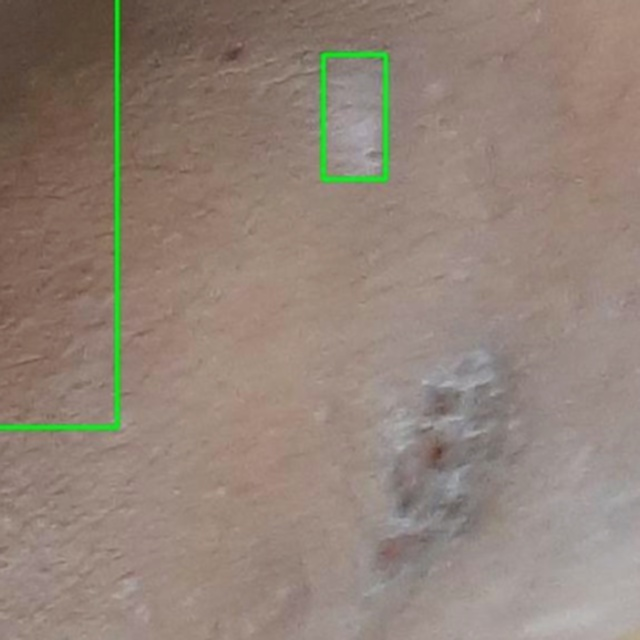Atopic Dermatitis: (0, 0, 117, 426), (323, 55, 385, 179)
